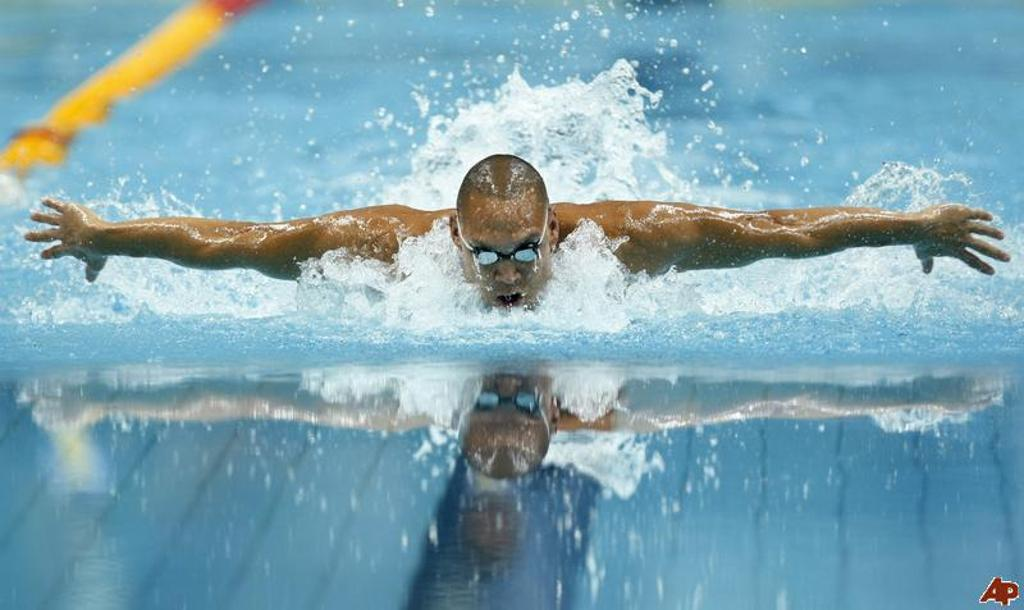face: (463, 207, 547, 319)
